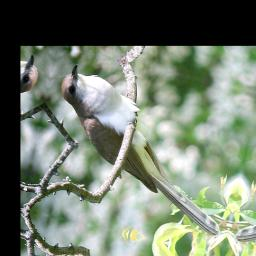Cuckoo: (35, 61, 250, 240)
